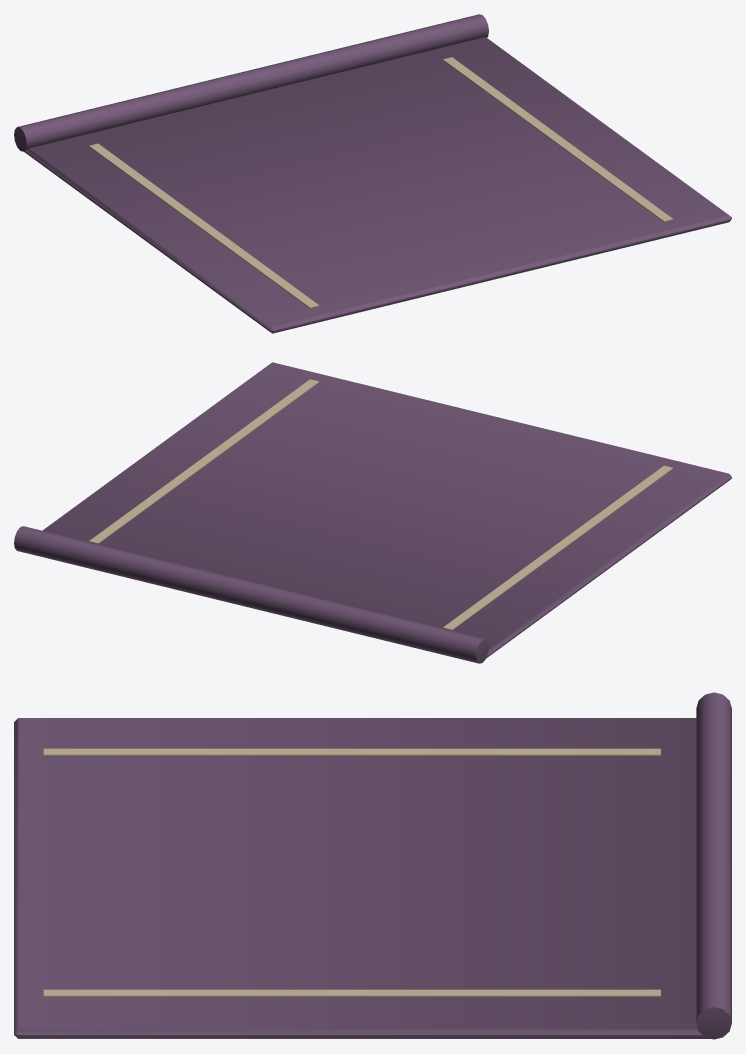
The model's file is mat_stretch.glb.
The picture shows the model from 3 angles, top to bottom: view 1: azimuth 30°, elevation 25°; view 2: azimuth 150°, elevation 25°; view 3: azimuth 270°, elevation 25°; orthographic projection. The views are drawn at different scales.
Parts seen in each view (by area): view 1: mat_stretch; view 2: mat_stretch; view 3: mat_stretch.
Part boxes in pixels (<box>): mat_stretch: <box>14,14,731,333</box>; mat_stretch: <box>14,362,731,663</box>; mat_stretch: <box>14,692,731,1039</box>.
Bounding box in the file's own units: 1.75 × 0.087 × 1.69.
